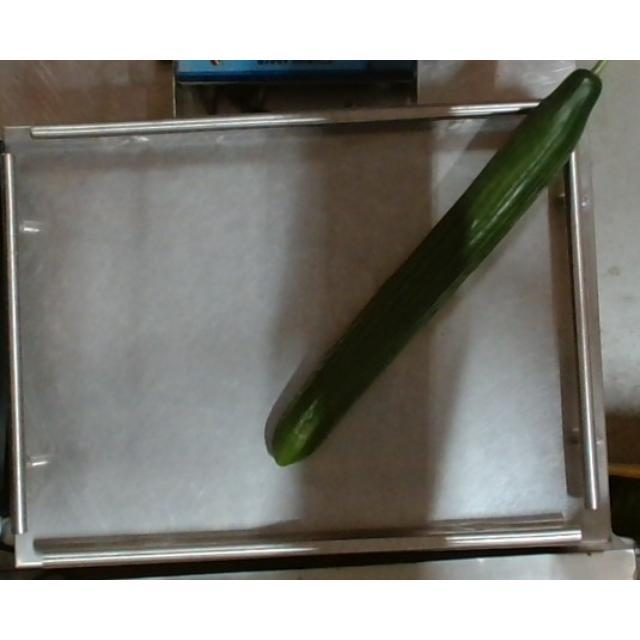cucumber: (270, 61, 610, 466)
